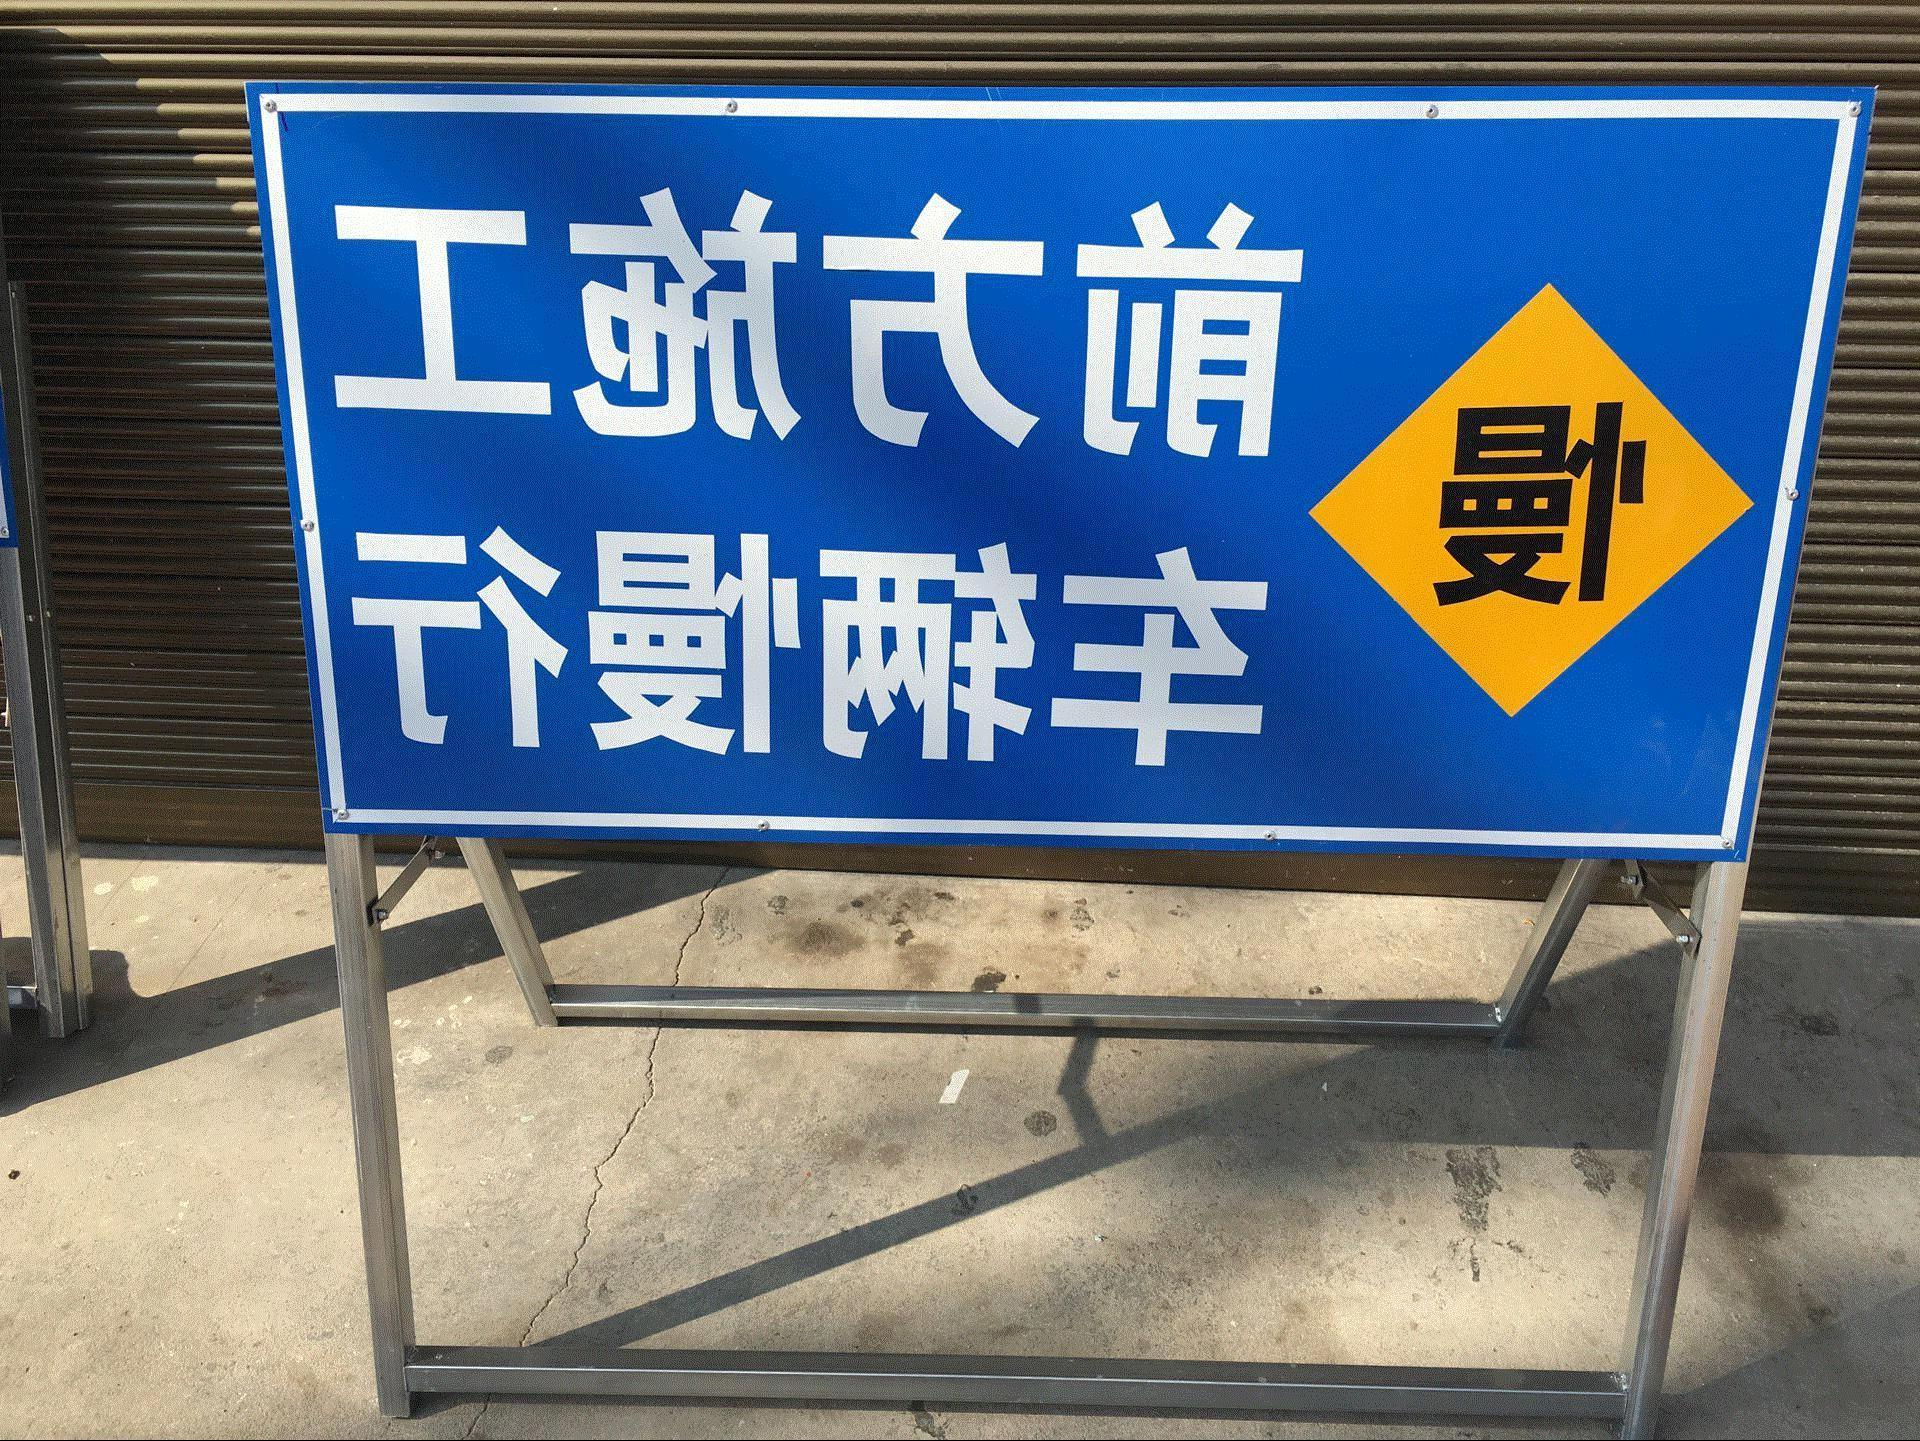sign: (242, 82, 1875, 852)
